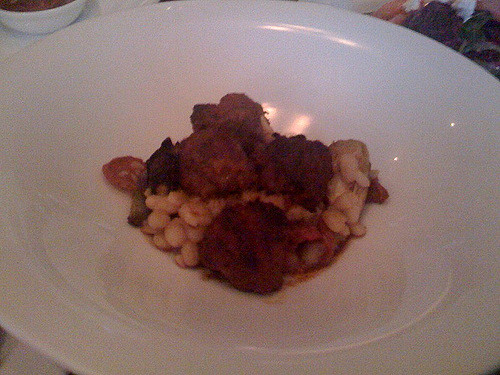meatballs: (192, 203, 292, 292), (181, 128, 253, 189)
